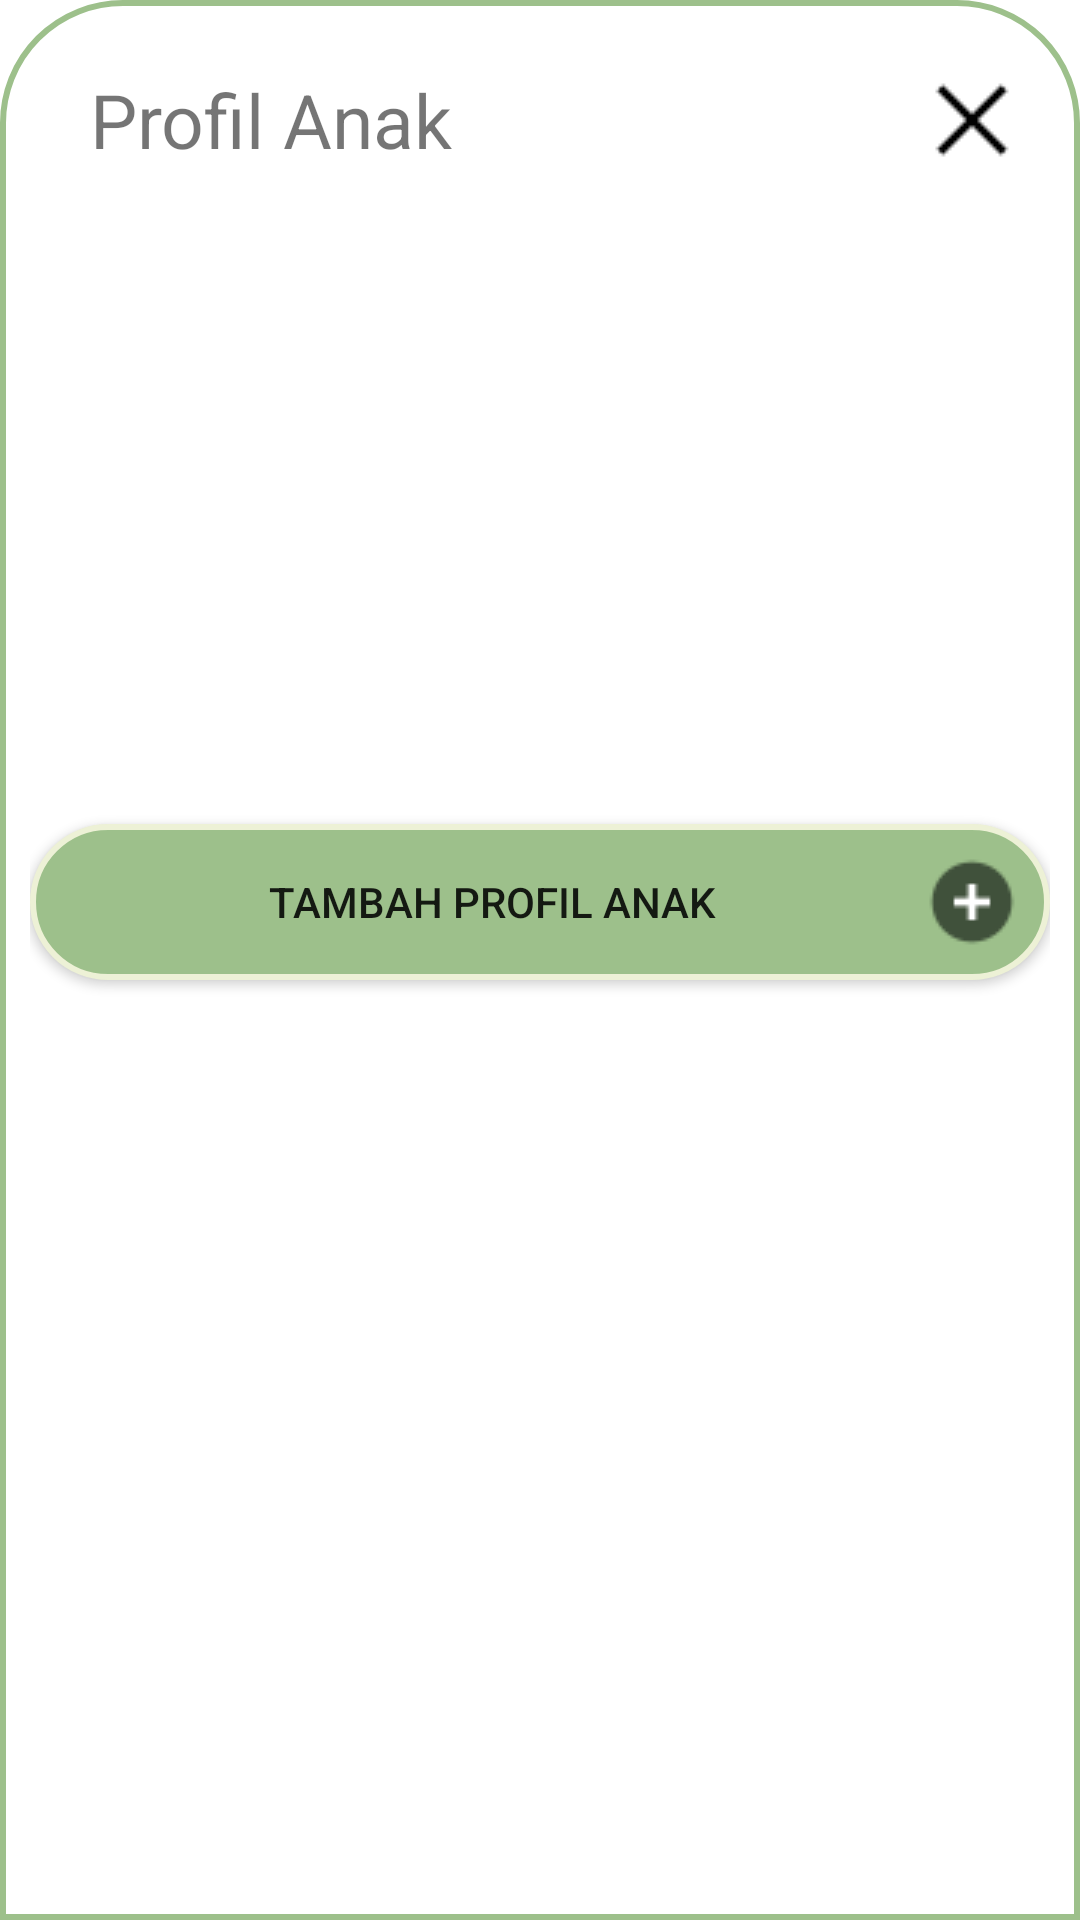

Point at icon controls on the screen. Image size 1080×1920, points as (x=x, y=y).
close: (x=972, y=120)
